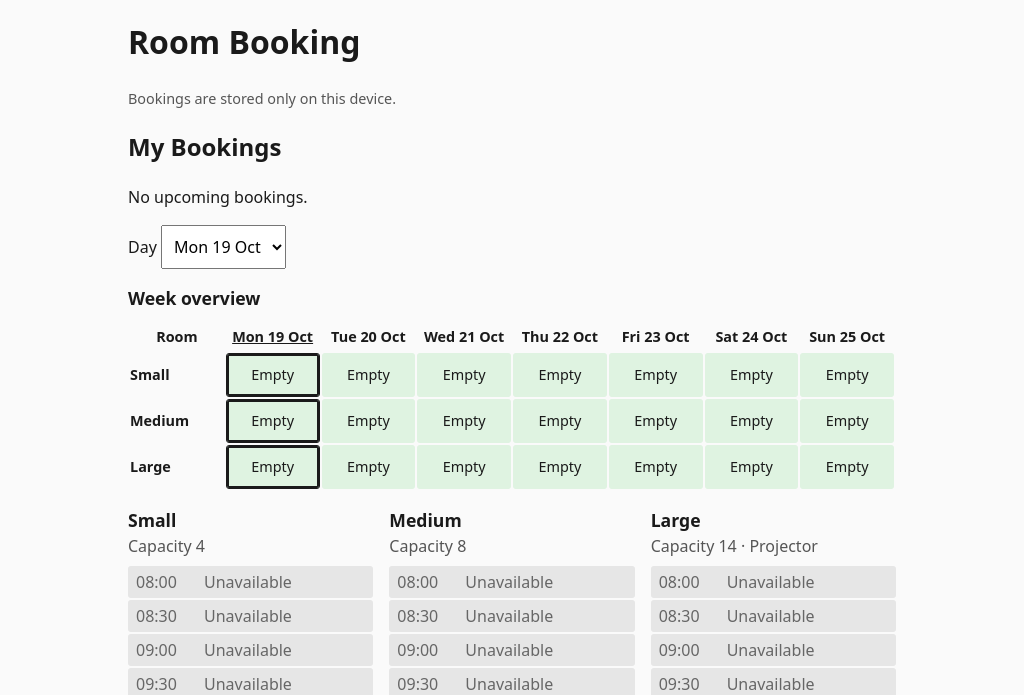
Test case: booking form › opens with Room, day, start, 30 min default and prefilled Name
Select "Tue 20 Oct" in the dropdown labelled "Day" at (224, 247), box [161, 225, 286, 269]
(page scrolled)
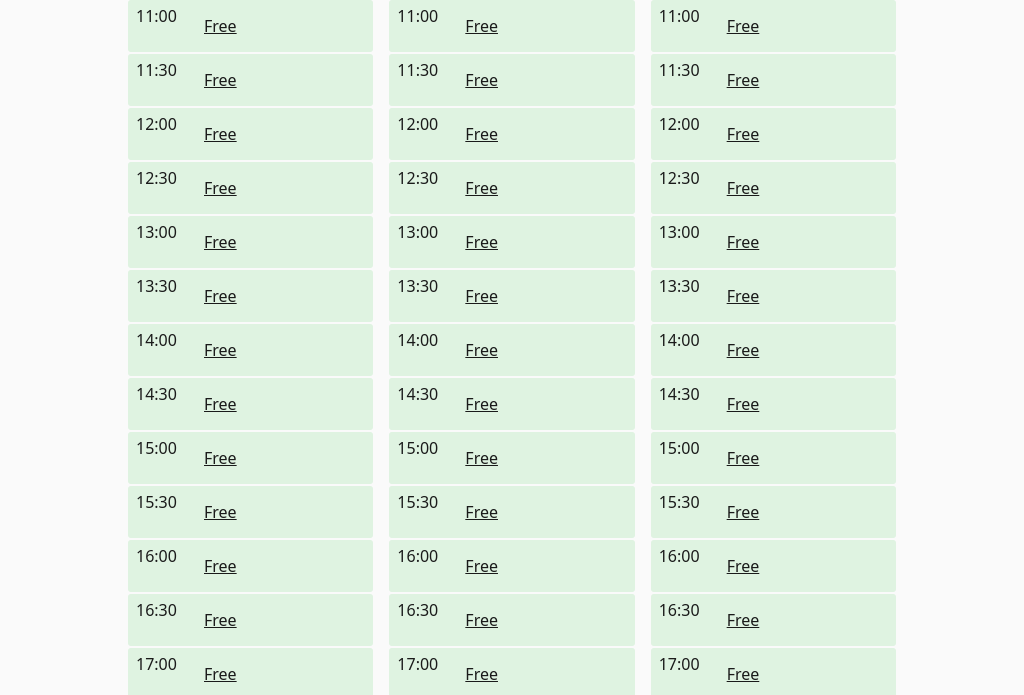
Click the button with aria-label "Book Medium 14:00" at (546, 350), box [465, 328, 627, 372]
(page scrolled)
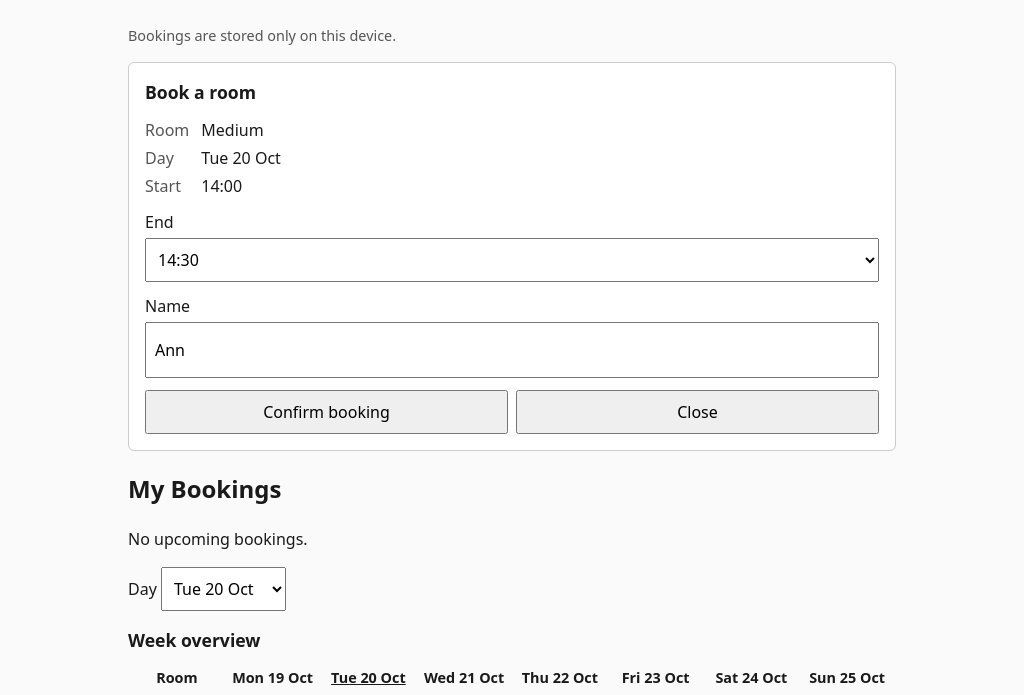
Expected: the text "Medium" is shown, [201, 119, 264, 141]
Expected: the text "Tue 20 Oct" is shown, [201, 147, 281, 169]
Expected: the text "14:00" is shown, [201, 175, 242, 197]
